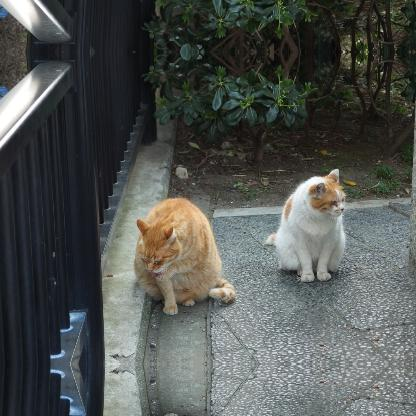Cat: (131, 197, 235, 316), (262, 169, 354, 283)
